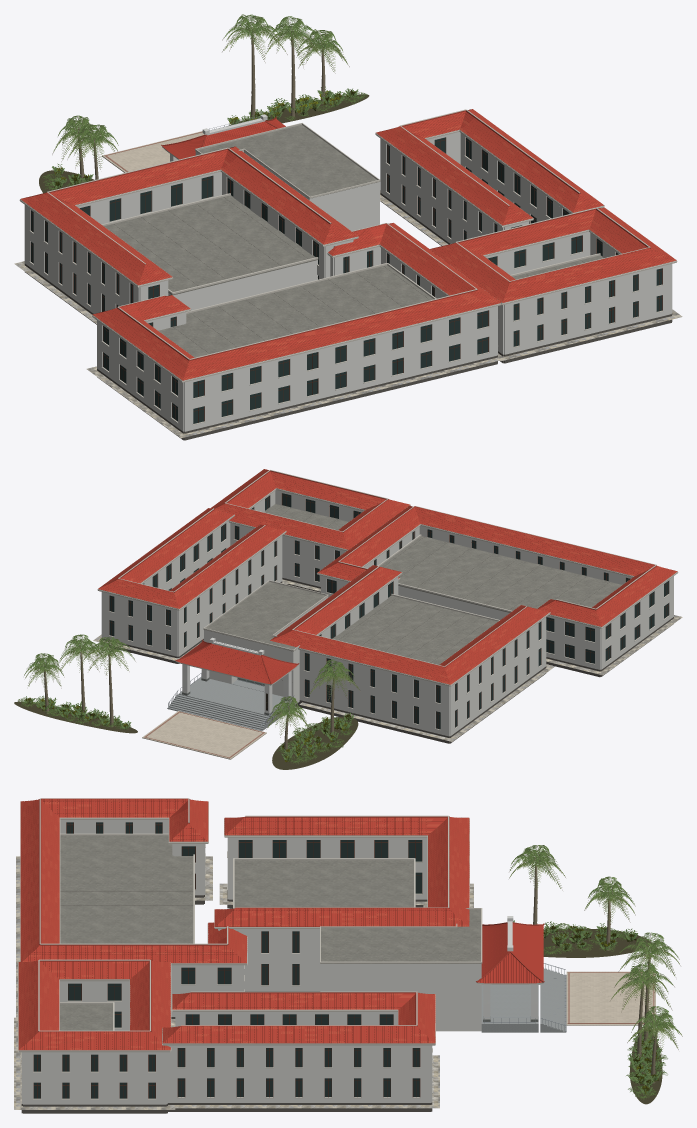
File: arts.glb
The picture shows the model from 3 angles, top to bottom: view 1: azimuth 30°, elevation 25°; view 2: azimuth 150°, elevation 25°; view 3: azimuth 270°, elevation 25°; orthographic projection. The views are drawn at different scales.
Parts seen in each view (by area): view 1: arts.building.lower_halls, arts.building.walls_rear_hall, arts.building.roof_rear_hall, arts.building.walls_southeast, arts.building.roof_northwest, arts.building.walls_northwest, arts.building.roof_southeast, arts.building.roof_east_gallery, arts.building.walls_east_gallery, arts.building.entrance_hall, arts.building.perimeter_walk, arts.forecourt.0149 (+7 smaller); view 2: arts.building.lower_halls, arts.building.walls_northwest, arts.building.walls_east_gallery, arts.building.roof_rear_hall, arts.building.walls_rear_hall, arts.building.roof_northwest, arts.building.roof_southeast, arts.building.roof_east_gallery, arts.building.entrance_hall, arts.building.walls_southeast, arts.forecourt.0149, arts.building.portico_tiles (+9 smaller); view 3: arts.building.lower_halls, arts.building.walls_east_gallery, arts.building.roof_rear_hall, arts.building.roof_northwest, arts.building.entrance_hall, arts.building.roof_east_gallery, arts.building.roof_southeast, arts.building.walls_southeast, arts.building.walls_northwest, arts.building.walls_rear_hall, arts.forecourt.0149, arts.building.perimeter_walk (+9 smaller).
Part boxes in pixels (bbox=[...]): arts.building.lower_halls: bbox=[101, 193, 603, 357]; arts.building.walls_rear_hall: bbox=[97, 246, 497, 440]; arts.building.roof_rear_hall: bbox=[92, 222, 502, 382]; arts.building.walls_southeast: bbox=[485, 231, 672, 363]; arts.building.roof_northwest: bbox=[19, 146, 358, 287]; arts.building.walls_northwest: bbox=[24, 171, 353, 324]; arts.building.roof_southeast: bbox=[429, 207, 677, 304]; arts.building.roof_east_gallery: bbox=[375, 109, 604, 227]; arts.building.walls_east_gallery: bbox=[380, 132, 570, 245]; arts.building.entrance_hall: bbox=[195, 123, 380, 231]; arts.building.perimeter_walk: bbox=[14, 190, 682, 438]; arts.forecourt.0149: bbox=[102, 131, 204, 172]; arts.building.lower_halls: bbox=[264, 504, 621, 664]; arts.building.walls_northwest: bbox=[296, 577, 546, 743]; arts.building.walls_east_gallery: bbox=[101, 520, 282, 663]; arts.building.roof_rear_hall: bbox=[317, 506, 678, 628]; arts.building.walls_rear_hall: bbox=[321, 526, 673, 677]; arts.building.roof_northwest: bbox=[270, 565, 550, 686]; arts.building.roof_southeast: bbox=[210, 469, 410, 550]; arts.building.roof_east_gallery: bbox=[97, 508, 286, 610]; arts.building.entrance_hall: bbox=[203, 580, 328, 703]; arts.building.walls_southeast: bbox=[230, 490, 363, 592]; arts.forecourt.0149: bbox=[142, 711, 266, 759]; arts.building.portico_tiles: bbox=[175, 639, 299, 685]; arts.building.lower_halls: bbox=[60, 833, 415, 1030]; arts.building.walls_east_gallery: bbox=[167, 1012, 432, 1111]; arts.building.roof_rear_hall: bbox=[20, 798, 247, 965]; arts.building.roof_northwest: bbox=[214, 815, 469, 928]; arts.building.entrance_hall: bbox=[320, 908, 482, 1031]; arts.building.roof_east_gallery: bbox=[162, 991, 435, 1045]; arts.building.roof_southeast: bbox=[18, 959, 171, 1052]; arts.building.walls_southeast: bbox=[21, 981, 167, 1113]; arts.building.walls_northwest: bbox=[218, 837, 427, 991]; arts.building.walls_rear_hall: bbox=[60, 820, 244, 1018]; arts.forecourt.0149: bbox=[566, 971, 655, 1025]; arts.building.perimeter_walk: bbox=[14, 856, 473, 1109].
Bounding box in the file's own units: 81.84 × 17.74 × 91.28.
Materials: 25 (12 with a texture image).
